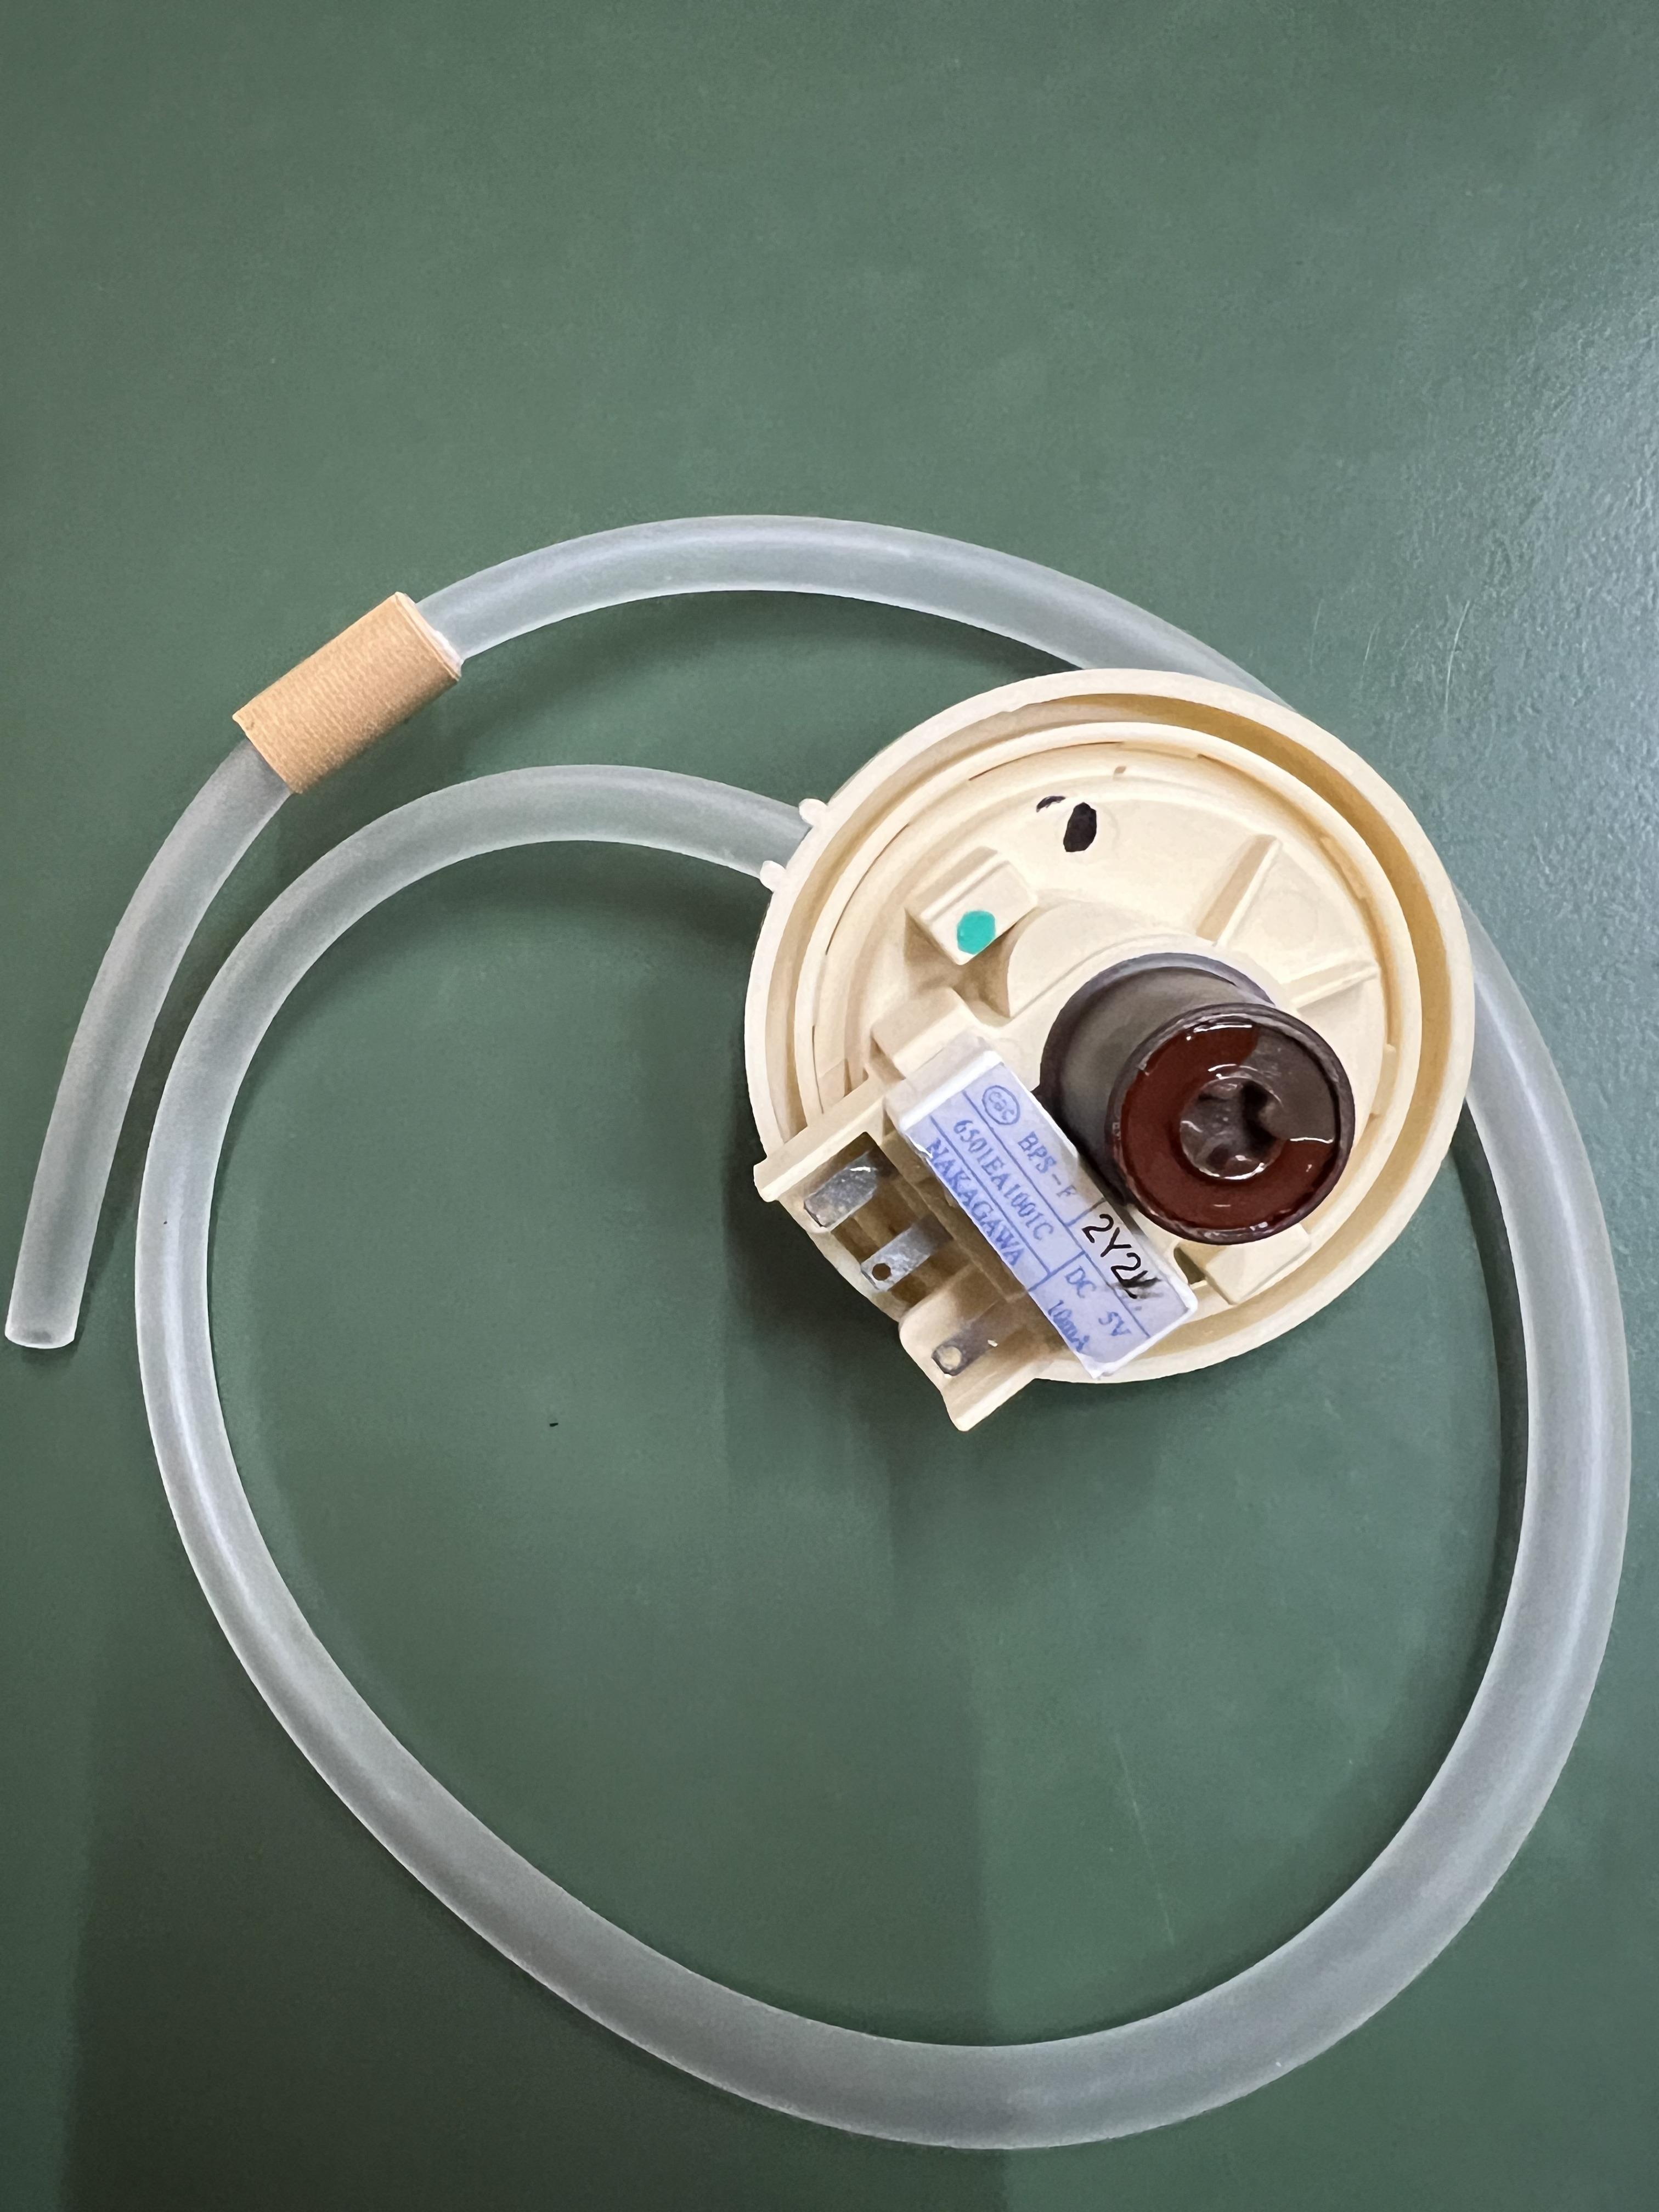pressure_sensor: (21, 516, 1652, 2155)
